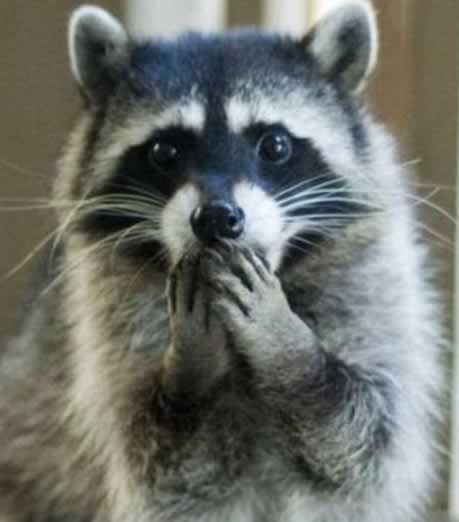raccoon: (37, 3, 444, 522)
